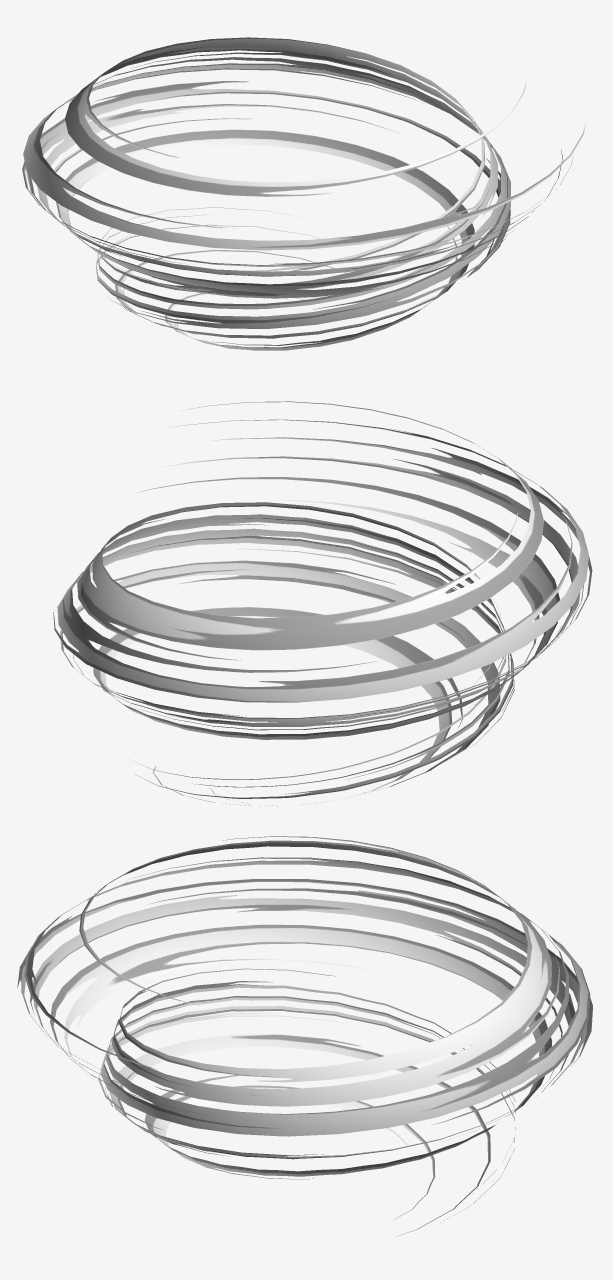
Rendered from eff_trail_06.FBX.
3 renders of one model, top to bottom at view 1: azimuth 30°, elevation 25°; view 2: azimuth 150°, elevation 25°; view 3: azimuth 270°, elevation 25°, orthographic. The views are drawn at different scales.
Parts seen in each view (by area): view 1: eff_trail_06; view 2: eff_trail_06; view 3: eff_trail_06.
Boxes of the visible parts, x1=… form: eff_trail_06: x1=22, y1=37, x2=585, y2=350; eff_trail_06: x1=53, y1=401, x2=592, y2=806; eff_trail_06: x1=17, y1=836, x2=592, y2=1236.
Bounding box in the file's own units: 253 × 142 × 235.
1 material, 1 textured.
